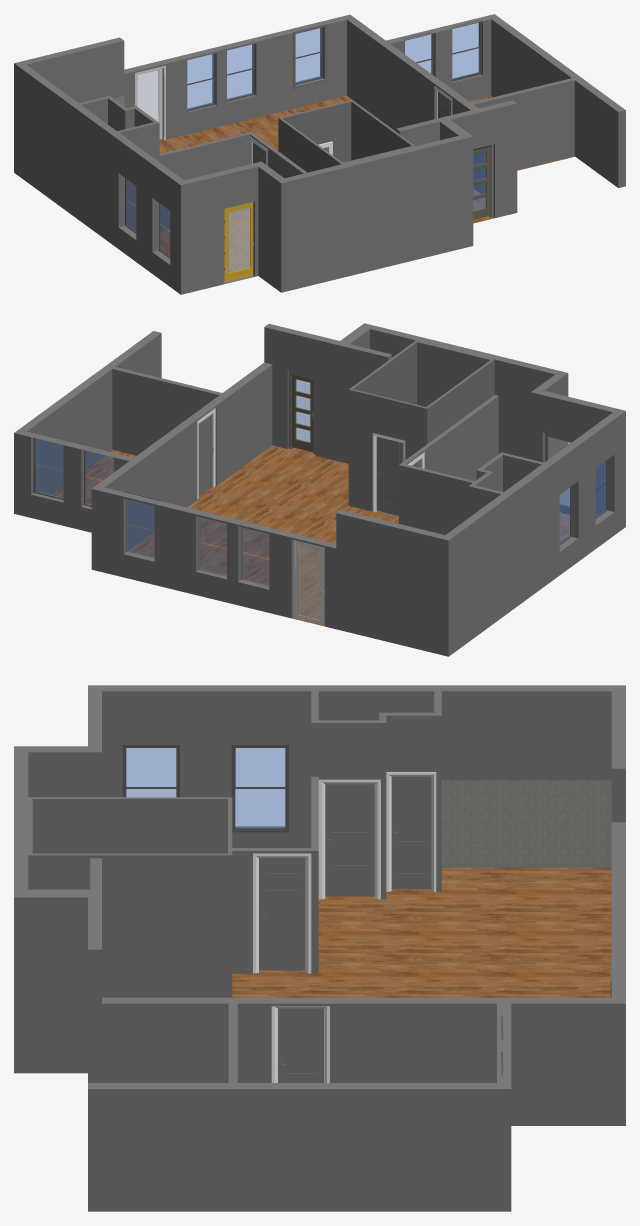
File: Layout.glb
The picture shows the model from 3 angles, top to bottom: view 1: azimuth 30°, elevation 25°; view 2: azimuth 150°, elevation 25°; view 3: azimuth 270°, elevation 25°; orthographic projection. The views are drawn at different scales.
Parts seen in each view (by area): view 1: object 9, Door+6, object 4, object 5, object 7, object 6, Door7, object 1, object 15, object 3, object 2, object 8 (+1 smaller); view 2: object 9, Group_1 (×2), object 4, object 15, Door7, object 7, object 5, object 6, Group_2 (×2), object 1, object 21, Door+6 (+3 smaller); view 3: object 9, Group_1 (×4), Group_2 (×4), object 2, object 3.
Part boxes in pixels (bbox=[...]): object 9: bbox=[14, 14, 625, 294]; Door+6: bbox=[224, 202, 254, 282]; object 4: bbox=[450, 20, 481, 81]; object 5: bbox=[187, 53, 215, 111]; object 7: bbox=[295, 27, 323, 84]; object 6: bbox=[227, 44, 254, 101]; Door7: bbox=[473, 146, 489, 219]; object 1: bbox=[403, 31, 434, 75]; object 15: bbox=[137, 70, 158, 121]; object 3: bbox=[159, 203, 170, 258]; object 2: bbox=[125, 178, 136, 233]; object 8: bbox=[293, 24, 326, 89]; object 9: bbox=[14, 323, 625, 656]; Group_1 (×2): bbox=[198, 414, 402, 515]; object 4: bbox=[33, 438, 66, 499]; object 15: bbox=[299, 545, 321, 619]; Door7: bbox=[292, 374, 313, 452]; object 7: bbox=[126, 499, 154, 558]; object 5: bbox=[241, 527, 269, 586]; object 6: bbox=[198, 517, 226, 576]; Group_2 (×2): bbox=[197, 408, 405, 511]; object 1: bbox=[84, 447, 114, 506]; object 21: bbox=[295, 540, 324, 624]; Door+6: bbox=[539, 430, 575, 515]; object 9: bbox=[14, 685, 625, 1211]; Group_1 (×4): bbox=[259, 777, 431, 1082]; Group_2 (×4): bbox=[253, 772, 436, 1082]; object 2: bbox=[231, 745, 288, 832]; object 3: bbox=[122, 745, 179, 797].
Bounding box in the file's own units: 12.97 × 3.07 × 9.59.
Materials: 26 (12 with a texture image).
